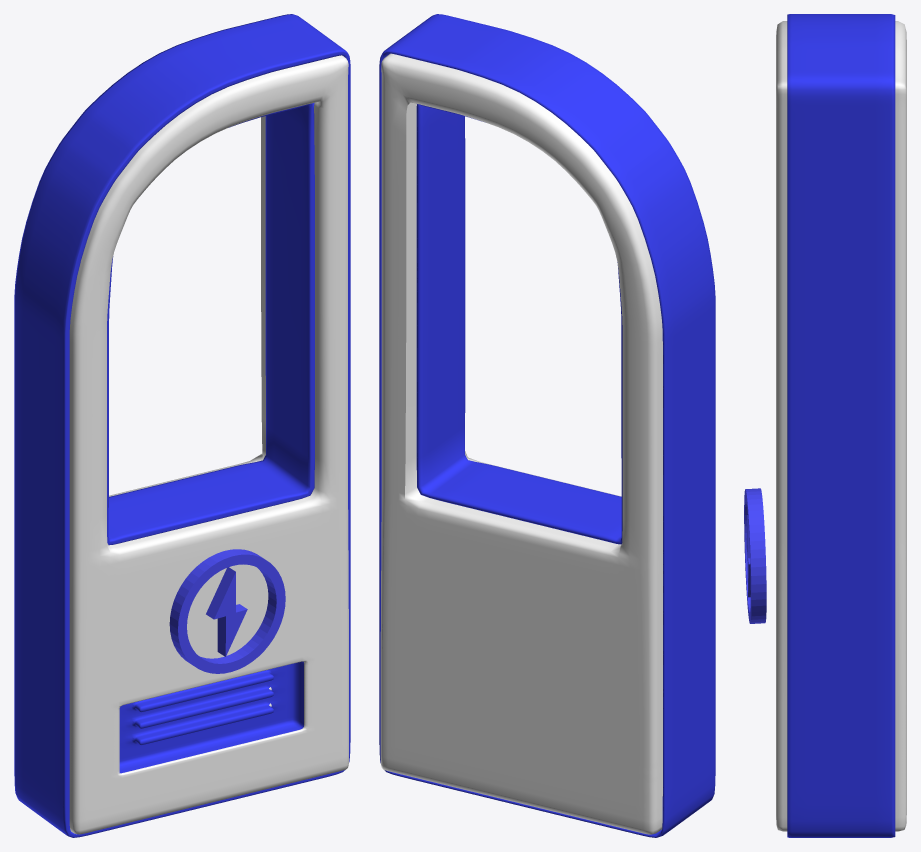
File: charging_station.fbx
The picture shows the model from 3 angles, left to right: view 1: azimuth 30°, elevation 25°; view 2: azimuth 150°, elevation 25°; view 3: azimuth 270°, elevation 25°; orthographic projection. The views are drawn at different scales.
Visible parts, largest first — view 1: Cube, Cube.001, Cube.002, Curve; view 2: Cube, Cube.001, Cube.002; view 3: Cube.001, Cube, Curve.
Part boxes in pixels (bbox=[...]): Cube: bbox=[69, 55, 348, 834]; Cube.001: bbox=[14, 14, 350, 837]; Cube.002: bbox=[107, 103, 314, 545]; Curve: bbox=[169, 549, 285, 673]; Cube: bbox=[380, 53, 662, 834]; Cube.001: bbox=[379, 14, 715, 837]; Cube.002: bbox=[416, 104, 622, 544]; Cube.001: bbox=[787, 14, 895, 837]; Cube: bbox=[776, 21, 906, 831]; Curve: bbox=[744, 488, 766, 623].
Bounding box in the file's own units: 208 × 502 × 97.36.
